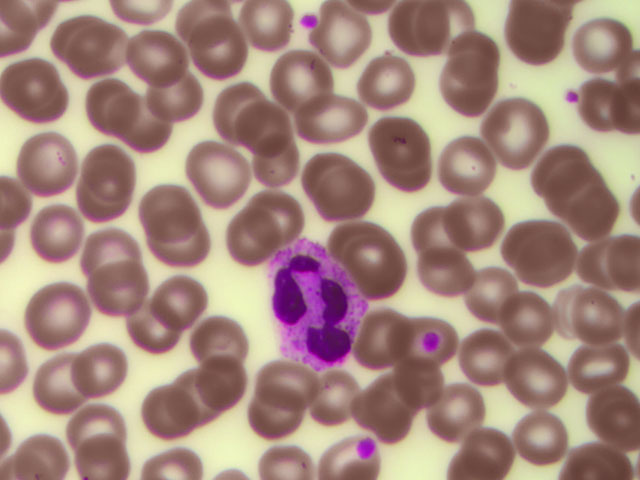Platelets: (297, 10, 322, 30), (355, 438, 378, 458), (567, 89, 578, 103)
RBC: (71, 429, 125, 480), (8, 429, 62, 480), (256, 429, 310, 480), (301, 429, 355, 480), (459, 429, 513, 480), (563, 429, 617, 480), (53, 16, 107, 66), (78, 26, 132, 76), (5, 53, 59, 103), (20, 72, 74, 122), (16, 139, 70, 189), (30, 209, 84, 259), (80, 176, 134, 226), (85, 135, 139, 185), (111, 104, 165, 154), (88, 78, 142, 128), (147, 74, 201, 124), (134, 30, 188, 80), (187, 22, 241, 72), (180, 2, 234, 52), (207, 83, 261, 133), (232, 97, 286, 147), (252, 134, 306, 184), (188, 150, 242, 200), (136, 178, 190, 228), (153, 230, 207, 280), (94, 268, 148, 318), (83, 233, 137, 283), (26, 286, 80, 336), (77, 344, 131, 394), (38, 362, 92, 412), (67, 400, 121, 450), (134, 384, 188, 434), (160, 374, 214, 424), (192, 356, 246, 406), (202, 312, 256, 362), (130, 304, 184, 354), (156, 275, 210, 325), (213, 215, 267, 265), (242, 187, 296, 237), (314, 166, 368, 216), (302, 150, 356, 200), (319, 94, 373, 144), (268, 44, 322, 94), (310, 9, 364, 59), (359, 52, 413, 102), (375, 113, 429, 163), (387, 154, 441, 204), (403, 205, 457, 255), (424, 242, 478, 292), (448, 191, 502, 241), (359, 248, 413, 298), (339, 217, 393, 267), (407, 311, 461, 361), (365, 309, 419, 359), (398, 354, 452, 404), (358, 385, 412, 435), (313, 372, 367, 422), (258, 354, 312, 404), (246, 391, 300, 441), (434, 388, 488, 438), (459, 325, 513, 375), (496, 344, 550, 394), (510, 414, 564, 464), (504, 296, 558, 346), (471, 266, 525, 316), (523, 232, 577, 282), (505, 214, 559, 264), (563, 177, 617, 227), (549, 160, 603, 210), (536, 146, 590, 196), (496, 107, 550, 157), (451, 141, 505, 191), (437, 60, 491, 110), (449, 30, 503, 80), (428, 1, 482, 51), (382, 3, 436, 53), (573, 16, 627, 66), (503, 9, 557, 59), (586, 78, 640, 128), (586, 242, 640, 292), (564, 290, 618, 340), (571, 333, 625, 383), (586, 395, 640, 445), (241, 1, 295, 50)
WBC: (262, 241, 373, 372)
